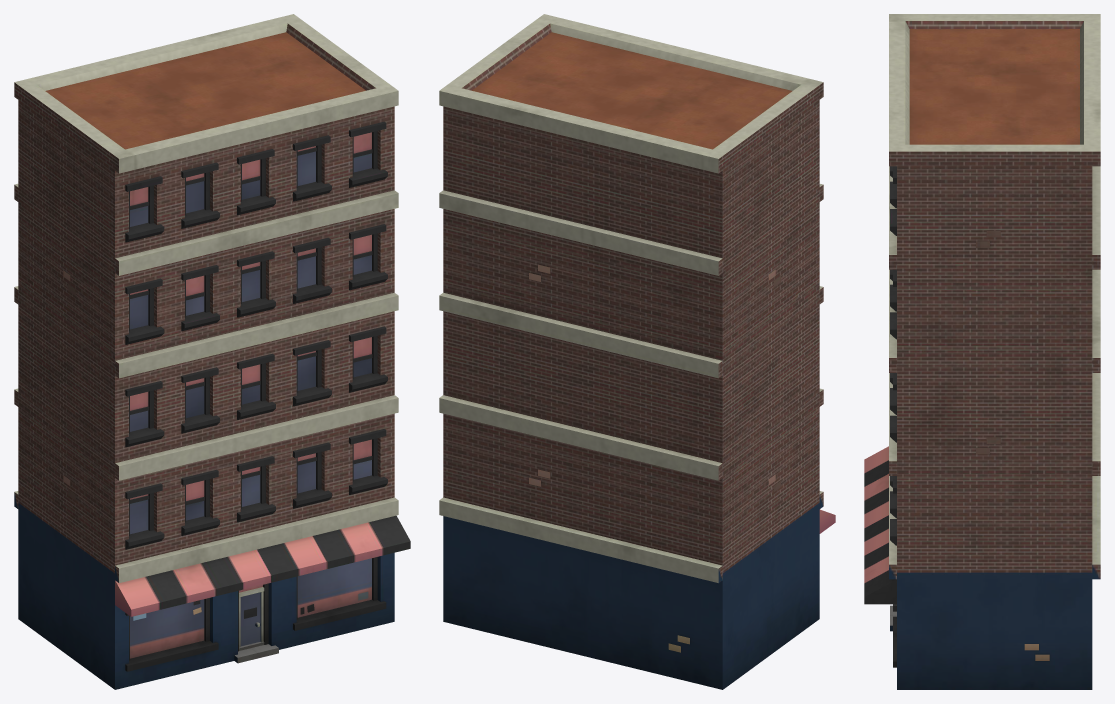
File: building_E_6f.glb
The picture shows the model from 3 angles, left to right: view 1: azimuth 30°, elevation 25°; view 2: azimuth 150°, elevation 25°; view 3: azimuth 270°, elevation 25°; orthographic projection.
Visible parts, largest first — view 1: ground; view 2: ground; view 3: ground.
Boxes of the visible parts, left/top/right/bottom form: ground: left=14, top=14, right=410, bottom=689; ground: left=439, top=14, right=835, bottom=689; ground: left=864, top=14, right=1100, bottom=689.
Size of the model in its own units: 2.01 by 3.65 by 1.45.
2 materials, 2 textured.
